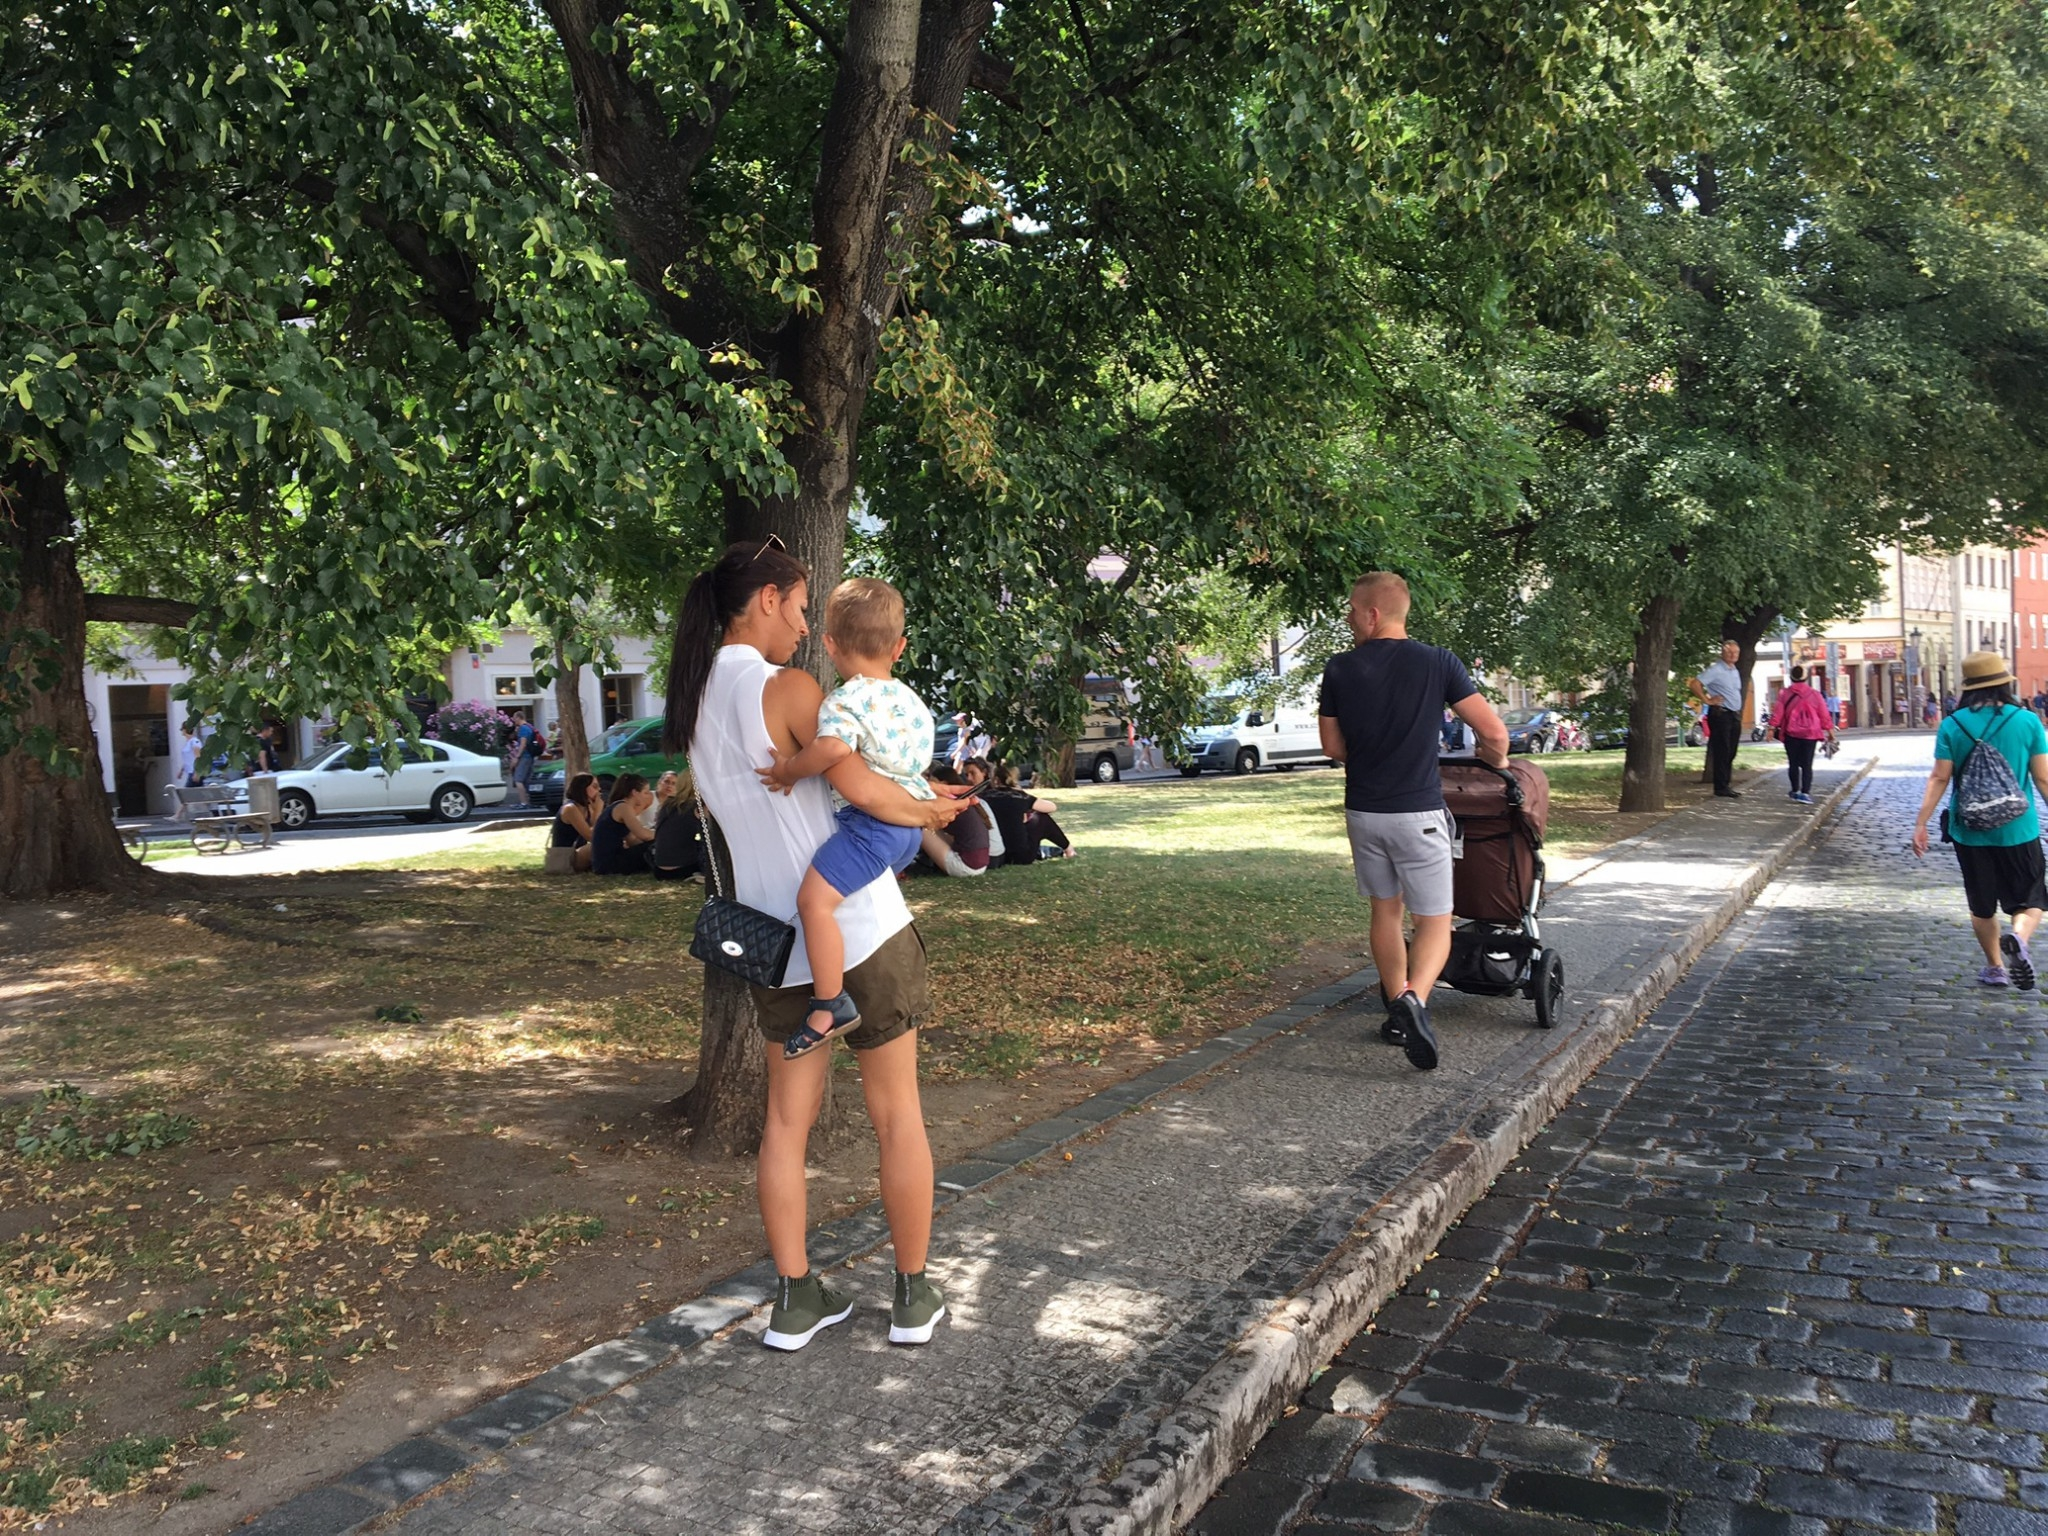people: (684, 543, 957, 1360), (796, 575, 960, 1072), (1340, 575, 1496, 1090), (1907, 655, 2048, 1005), (996, 755, 1087, 869), (1693, 631, 1752, 808), (1784, 658, 1843, 816), (934, 760, 1002, 899), (593, 778, 663, 890), (963, 752, 1028, 855), (652, 755, 716, 855), (546, 772, 596, 863)
